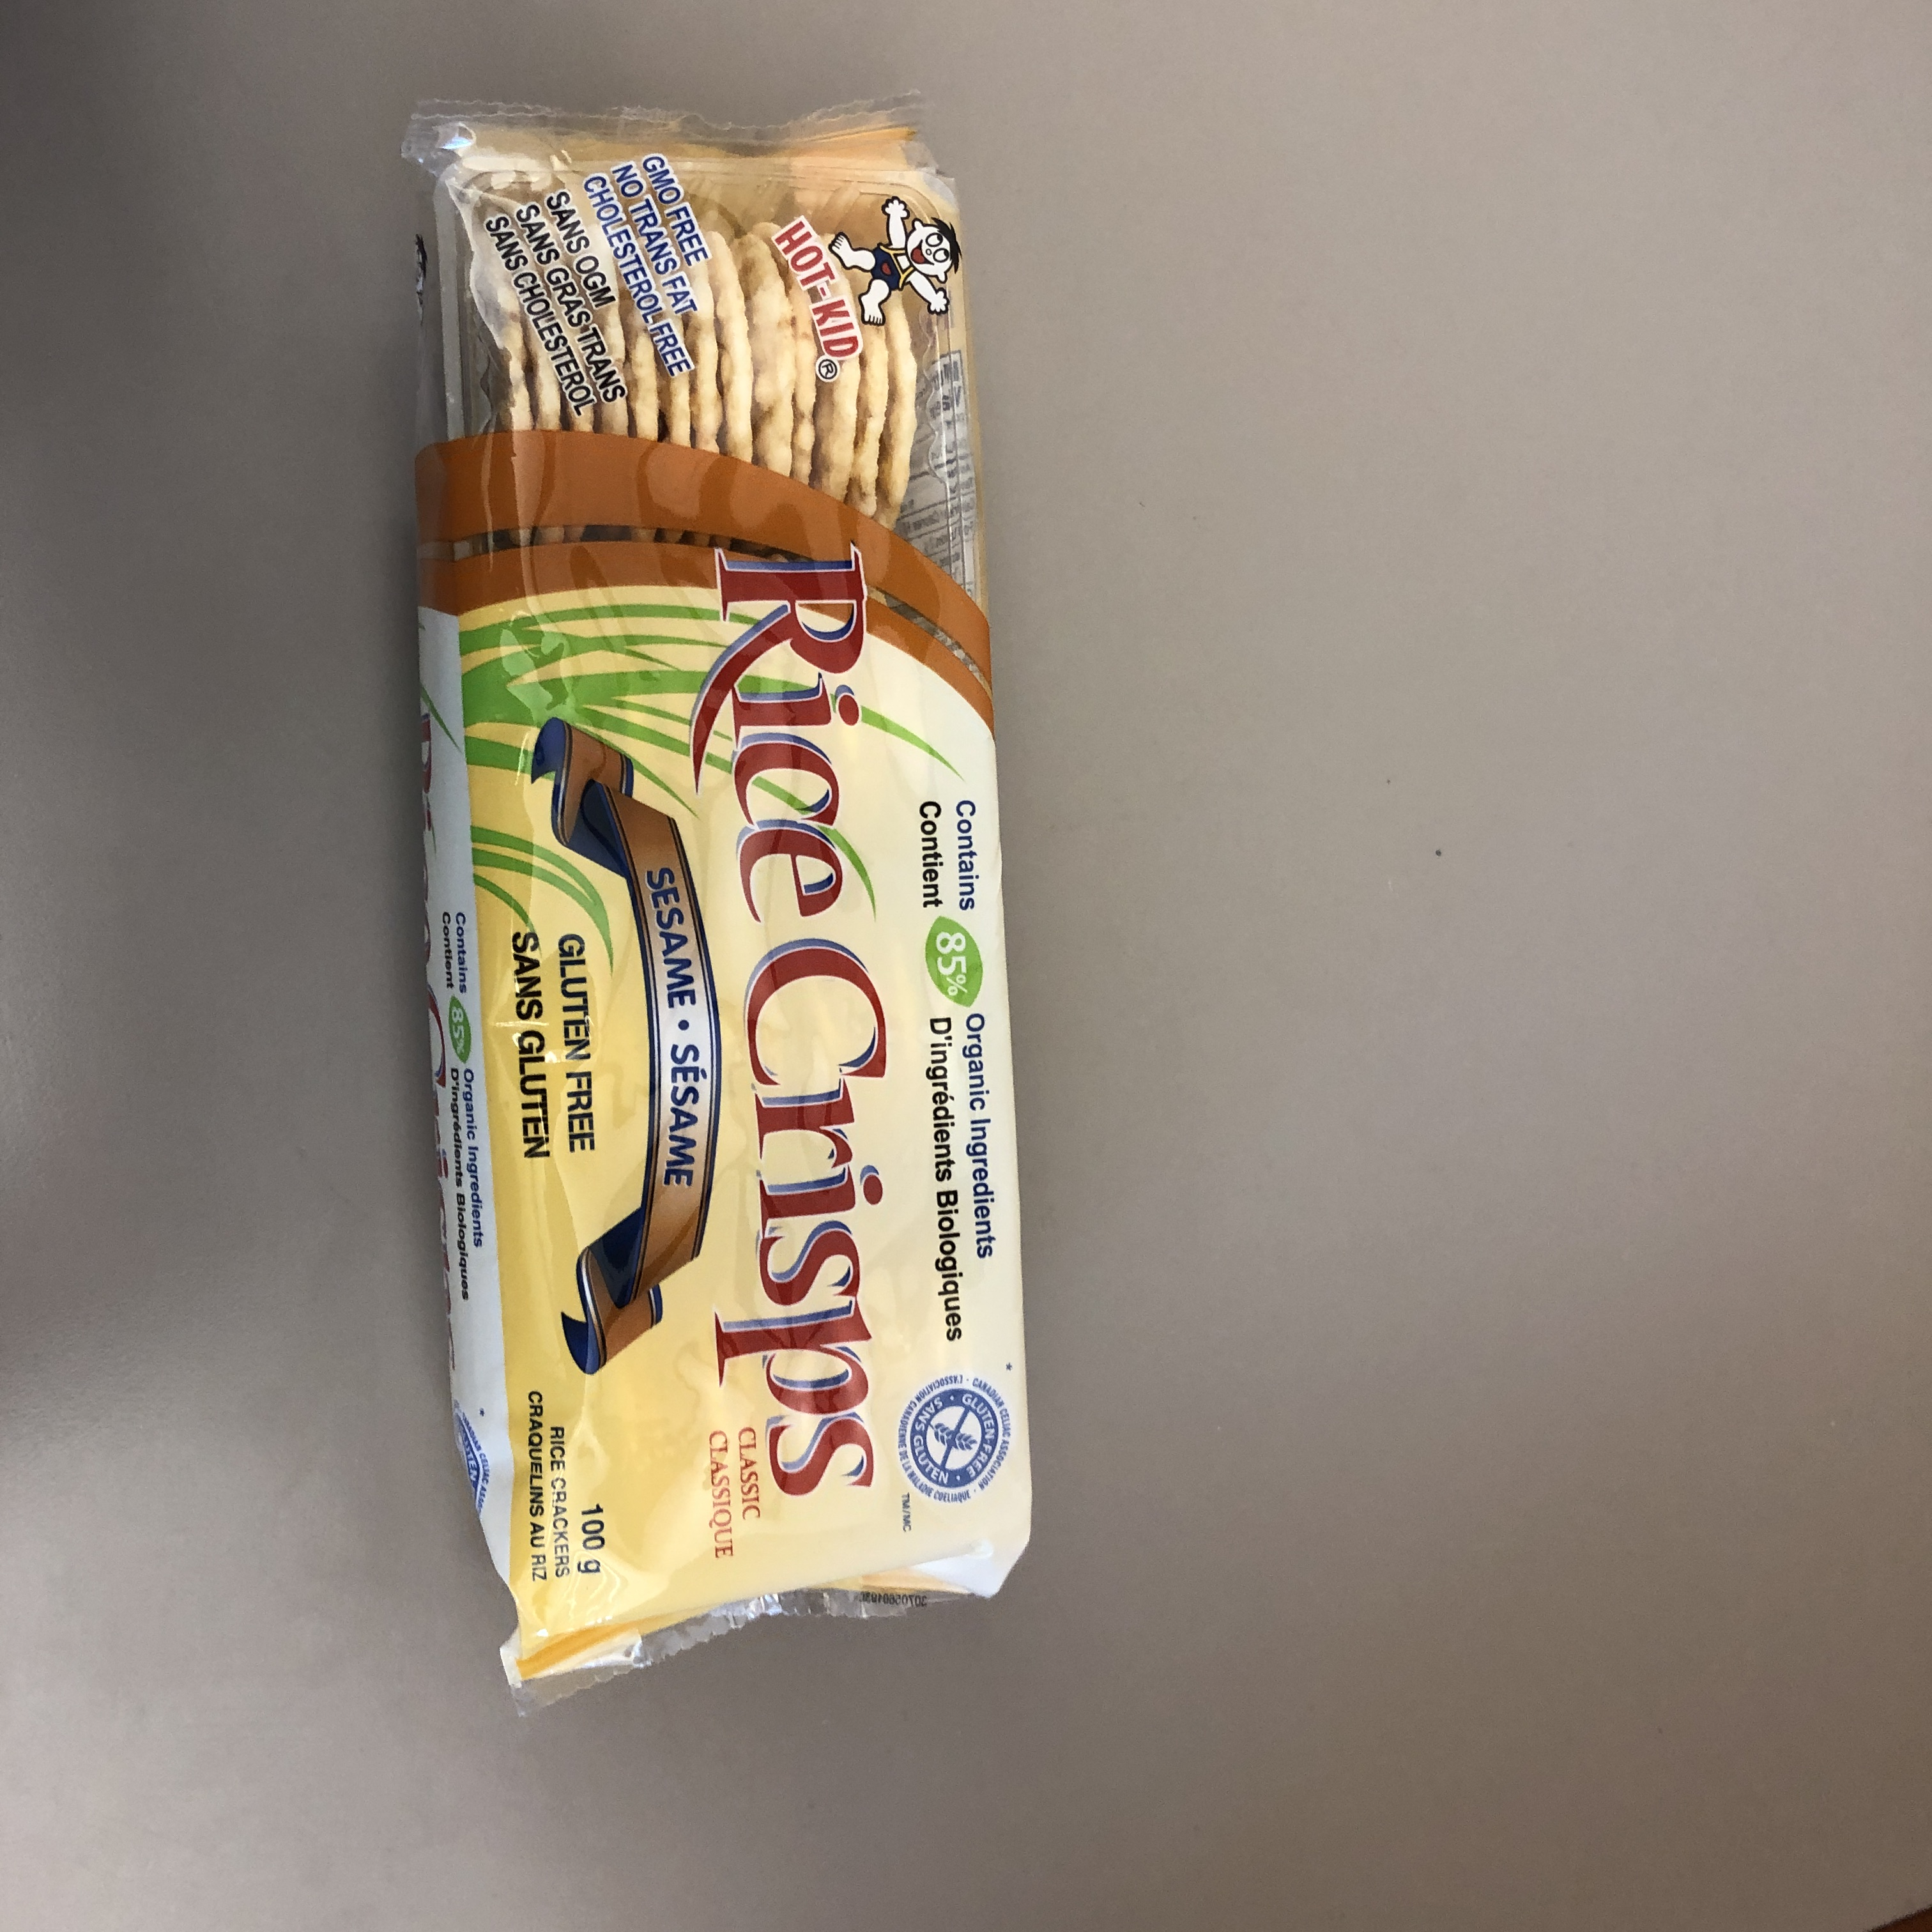hot_kid_rice_crisps_sesame: (126, 939, 1640, 1487)
